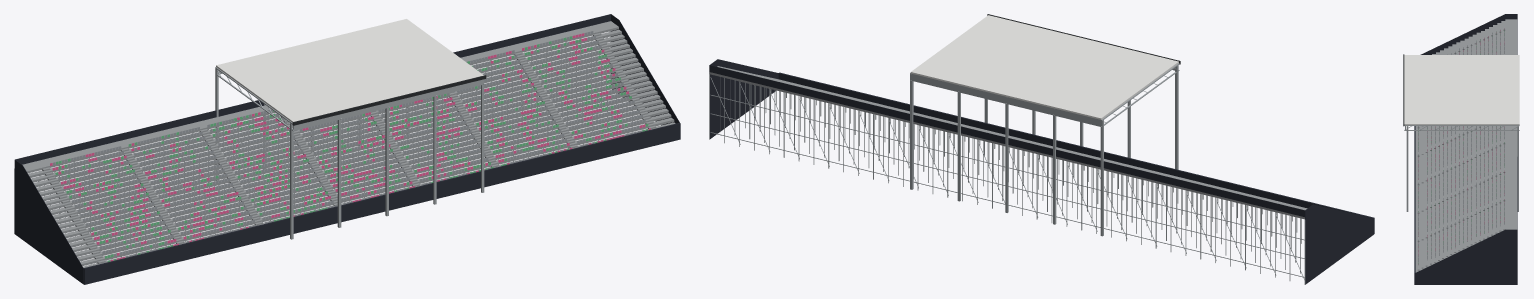
The model's file is bak_stand_c.glb.
The picture shows the model from 3 angles, left to right: view 1: azimuth 30°, elevation 25°; view 2: azimuth 150°, elevation 25°; view 3: azimuth 270°, elevation 25°; orthographic projection. The views are drawn at different scales.
Visible parts, largest first — view 1: baku-absheron-grandstand; view 2: baku-absheron-grandstand; view 3: baku-absheron-grandstand.
Boxes of the visible parts, <box> form: baku-absheron-grandstand: <box>14,14,680,284</box>; baku-absheron-grandstand: <box>709,14,1374,284</box>; baku-absheron-grandstand: <box>1403,14,1519,284</box>.
Size of the model in its own units: 100 by 19 by 22.8.
